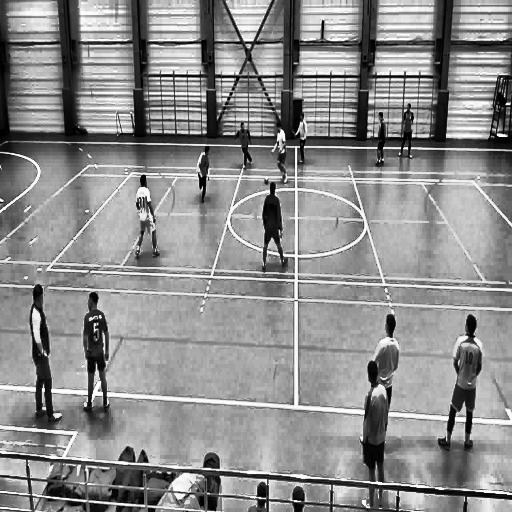ball: (263, 173, 270, 186)
player: (438, 314, 482, 452), (359, 312, 399, 444), (30, 284, 63, 425), (360, 360, 389, 510), (82, 294, 112, 413), (262, 183, 288, 274), (136, 174, 162, 261), (272, 122, 288, 185), (398, 105, 415, 160), (235, 122, 253, 171), (291, 112, 307, 164), (197, 146, 211, 205), (375, 112, 387, 168)
